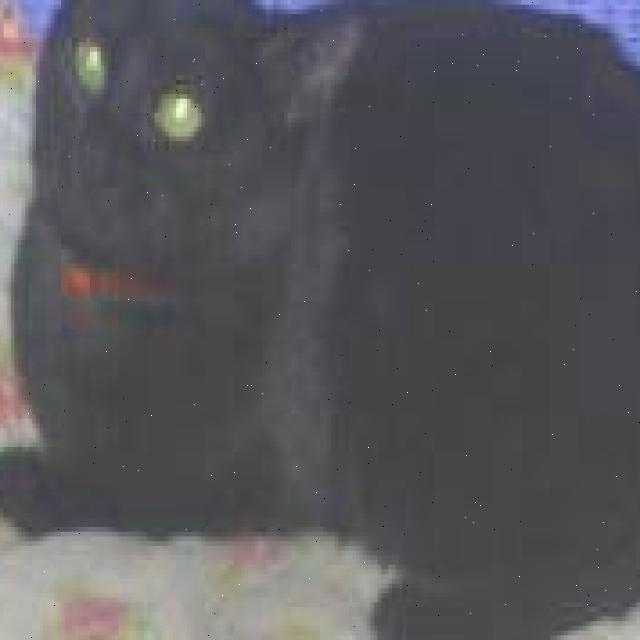Cat: (29, 0, 381, 311)
